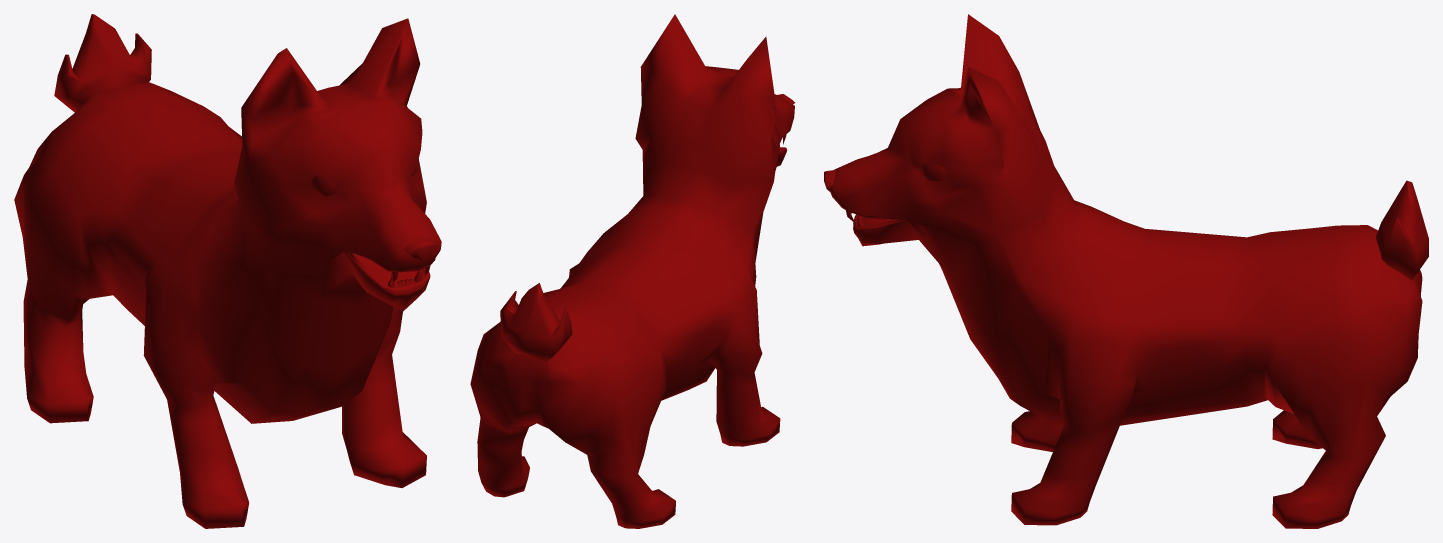
Rendered from Corgi.fbx.
3 views of the same model, side by side, from view 1: azimuth 30°, elevation 25°; view 2: azimuth 150°, elevation 25°; view 3: azimuth 270°, elevation 25° (orthographic). The views are drawn at different scales.
Parts seen in each view (by area): view 1: cORGI; view 2: cORGI; view 3: cORGI.
Part boxes in pixels (bbox=[...]): cORGI: bbox=[14, 14, 441, 528]; cORGI: bbox=[470, 14, 795, 528]; cORGI: bbox=[824, 14, 1428, 528].
Size of the model in its own units: 71.64 by 136 by 171.
